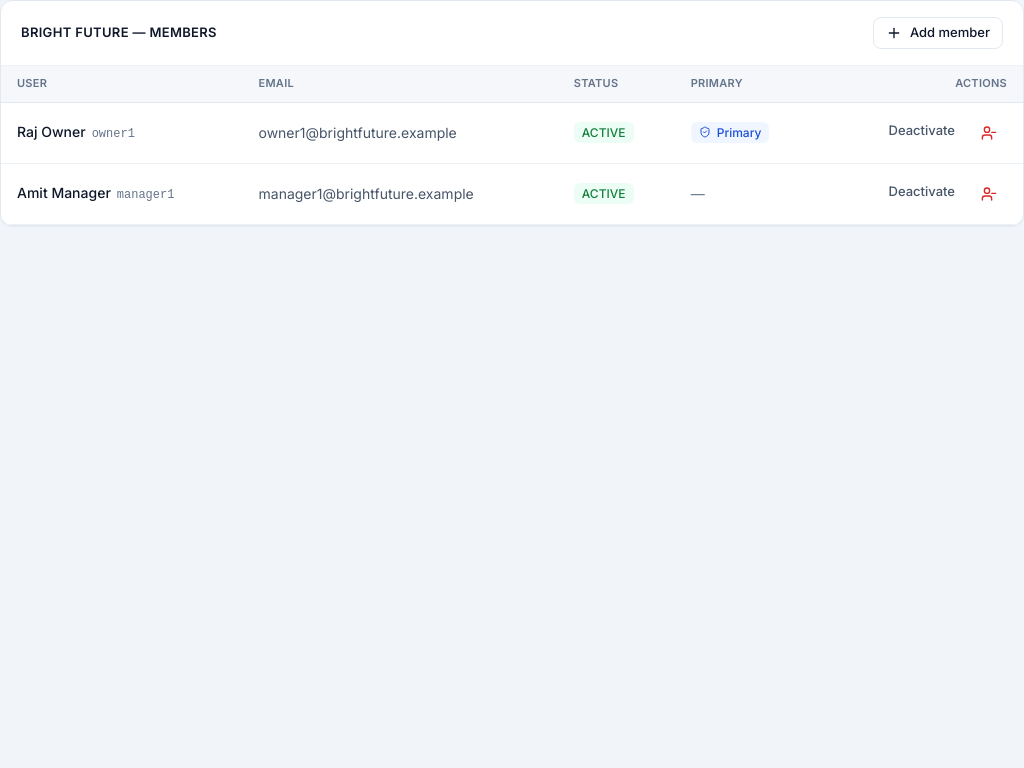
Test: MemberPanel add member › POSTs a new organization member by user id
Click the button "Add member".
click(938, 33)  # box [873,17,1003,49]
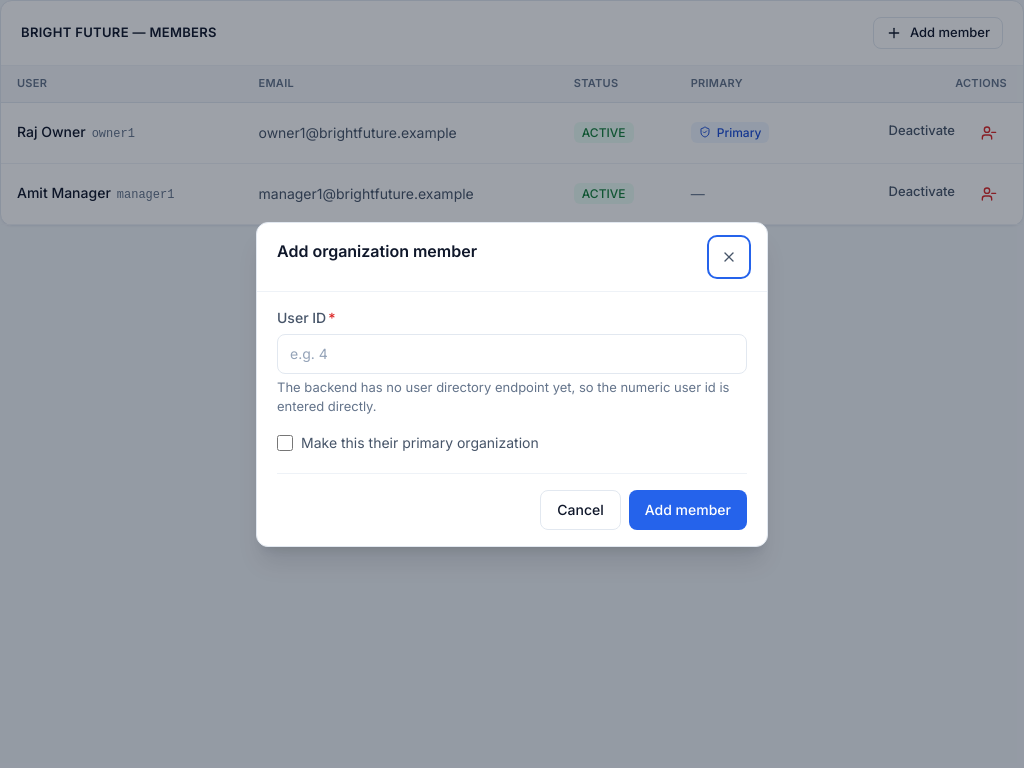
Type "9" into the field labelled "User ID*".
click(512, 354); type("9")  # box [277,334,747,374]
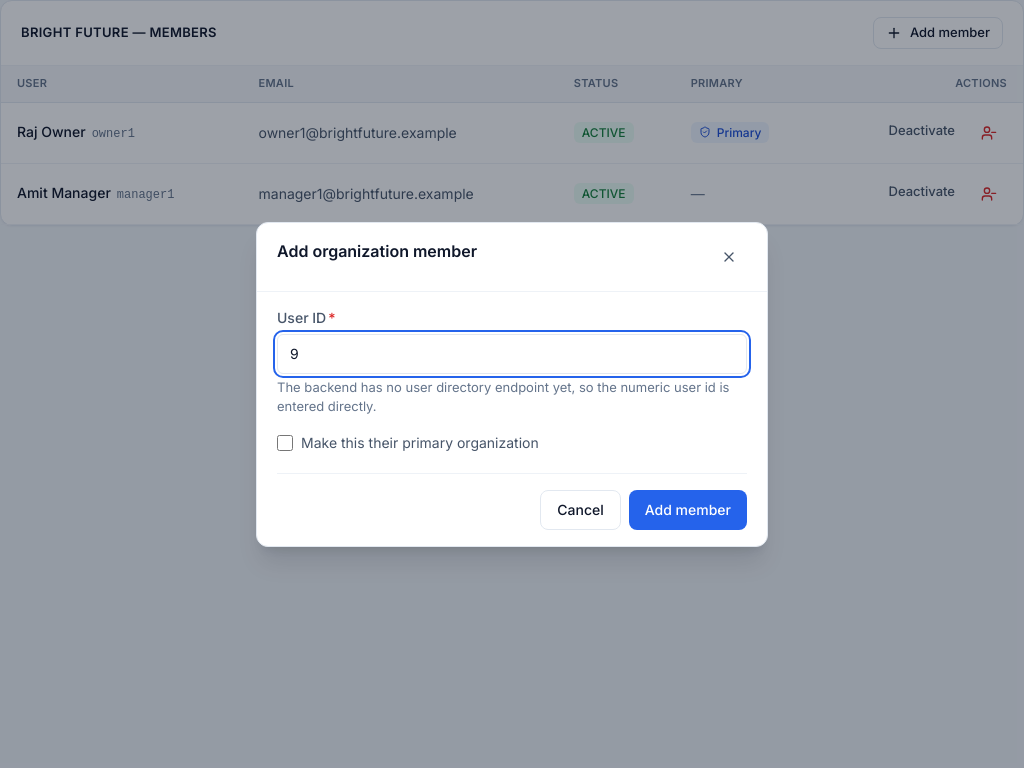
Click the button "Add member".
click(688, 510)  # box [629,490,747,530]
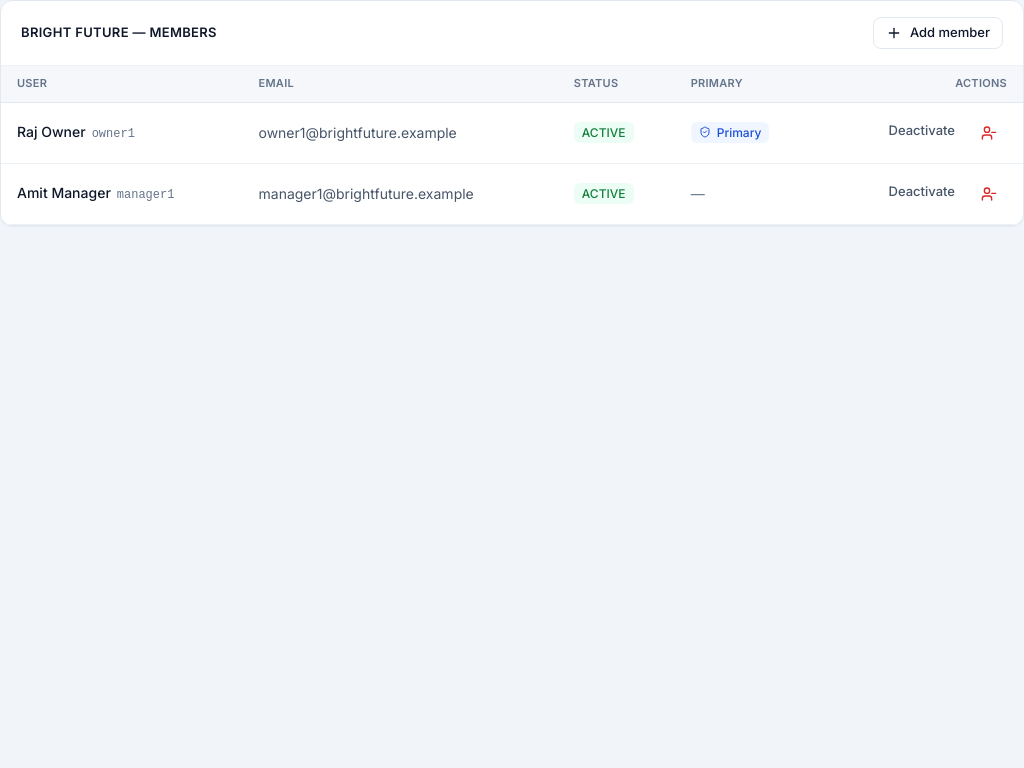
Result: the dialog is gone
